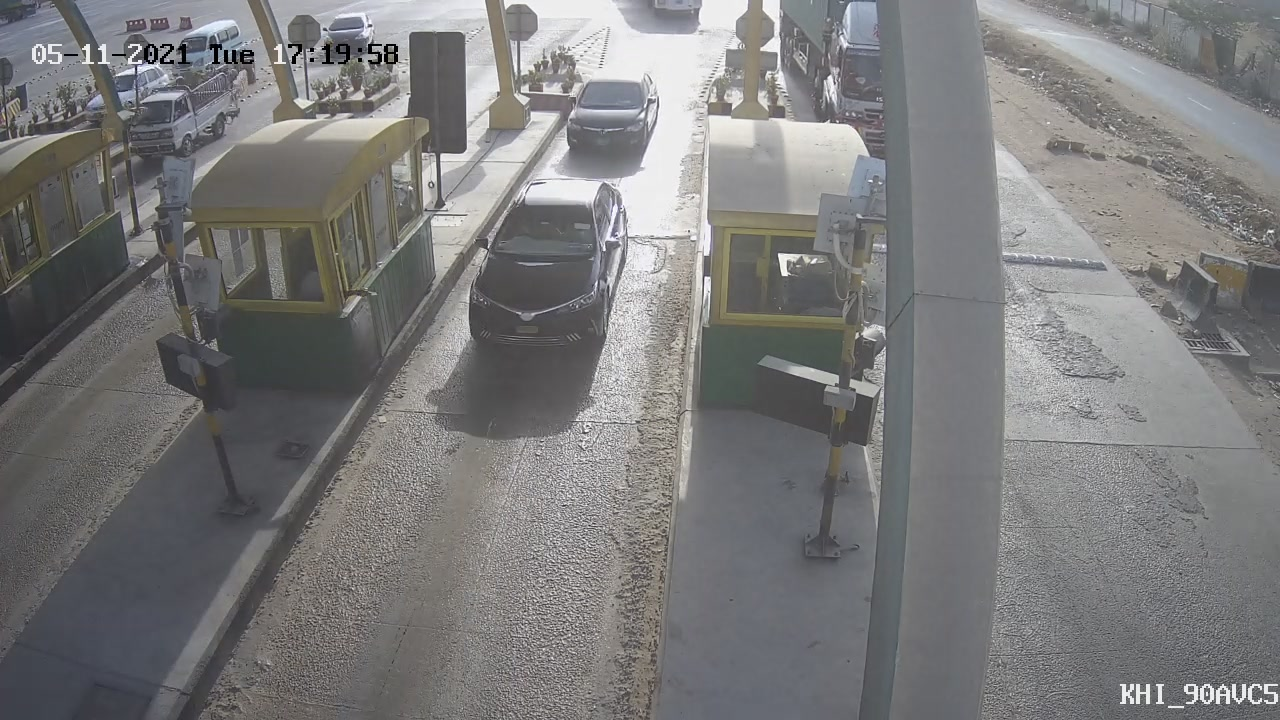F1: (437, 159, 656, 382), (544, 52, 673, 178)
